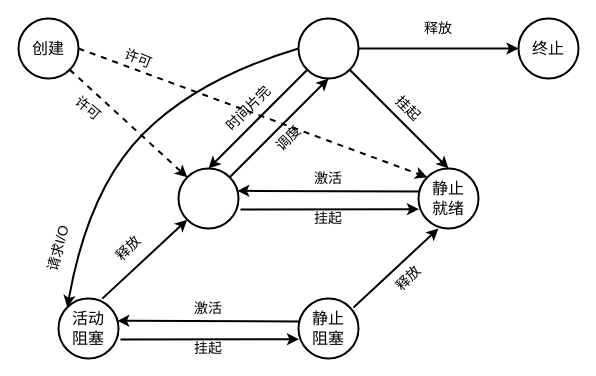
Image size: 596x376. Some labels were removed from this diagram. Here are the shapes that lost their labels. From the top down, the centre of each, then its label:
[328,48]: 执行
[208,198]: 活动 就绪
